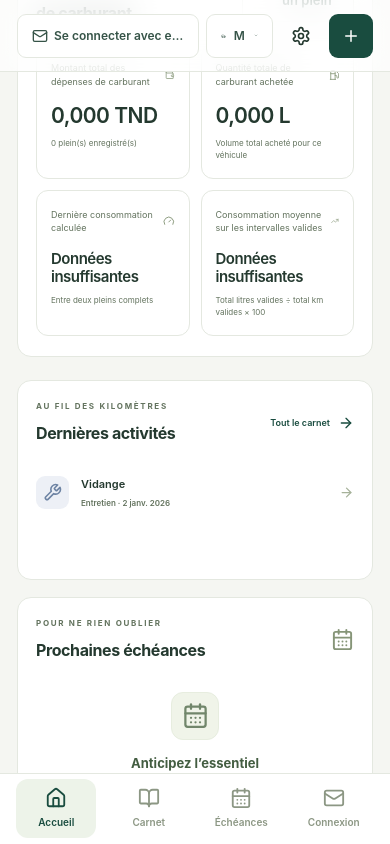
Test: Parcours interface › change réellement liste/grille et recherche les notes
(page scrolled)
Click the button "Tout le carnet": (312, 423) left=270, top=401, right=354, bottom=445
(page scrolled)
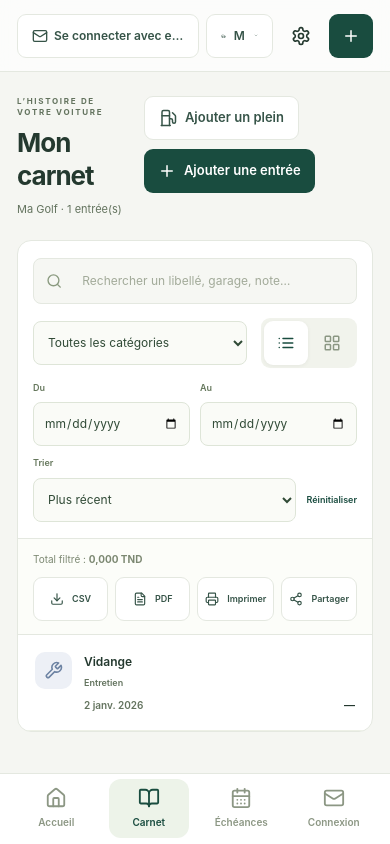
Now the element with class "entry-table" is shown, box left=18, top=635, right=372, bottom=732
Click the button named "Affichage grille": (332, 343) left=310, top=321, right=354, bottom=365
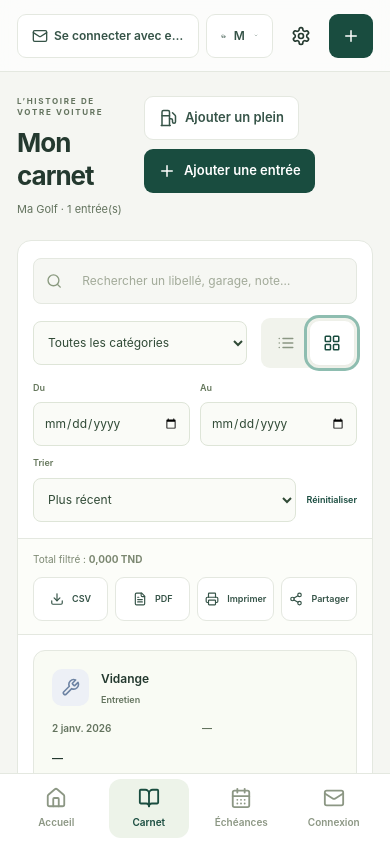
Now the element with class "entry-table" is shown, box left=18, top=635, right=372, bottom=800
Click the button named "Affichage liste": (286, 343) left=264, top=321, right=308, bottom=365
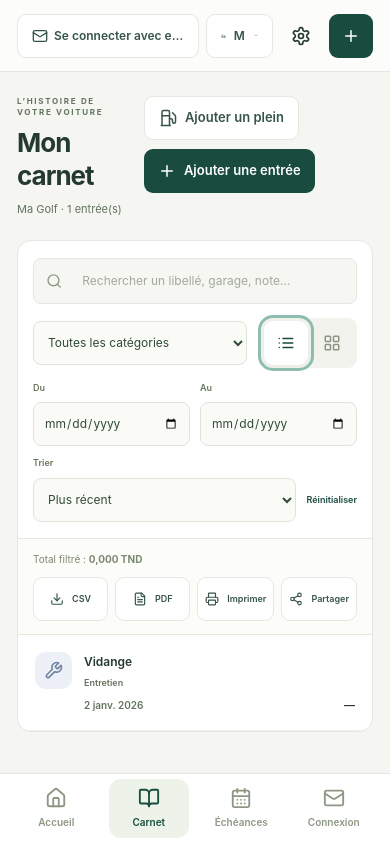
Now the element with class "entry-table" is shown, box left=18, top=635, right=372, bottom=732
In the field named "Rechercher dans le carnet": (208, 281) left=72, top=259, right=344, bottom=303, type "Sousse"
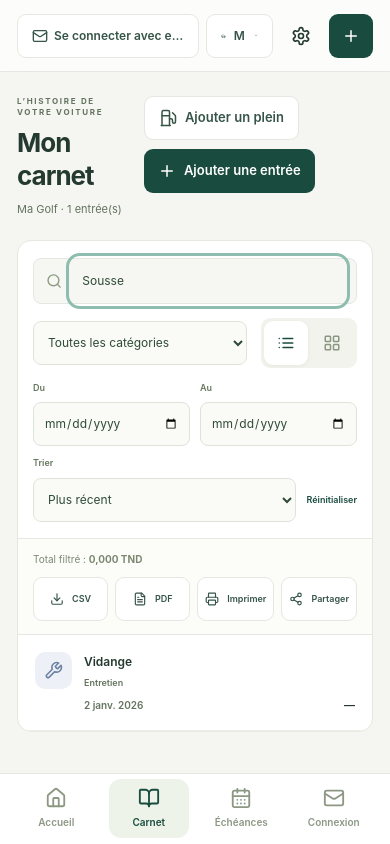
Now the button "Vidange" is shown, box left=18, top=635, right=372, bottom=732
Replace the text in the field named "Rechercher dans le carnet" with "introuvable": (208, 281) left=72, top=259, right=344, bottom=303
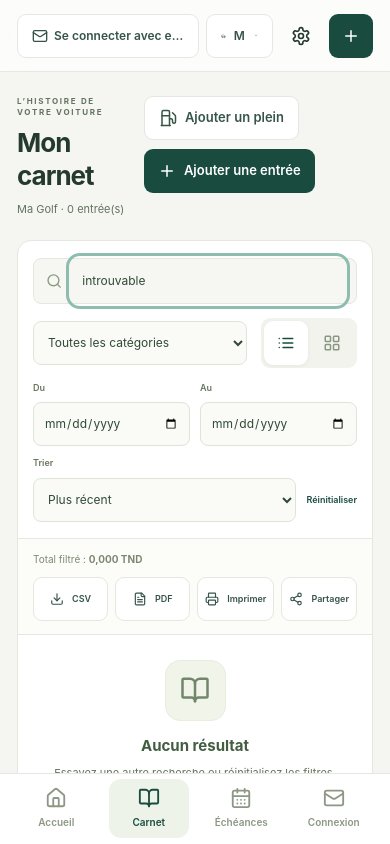
Now the heading "Aucun résultat" is shown, box left=141, top=735, right=249, bottom=758
